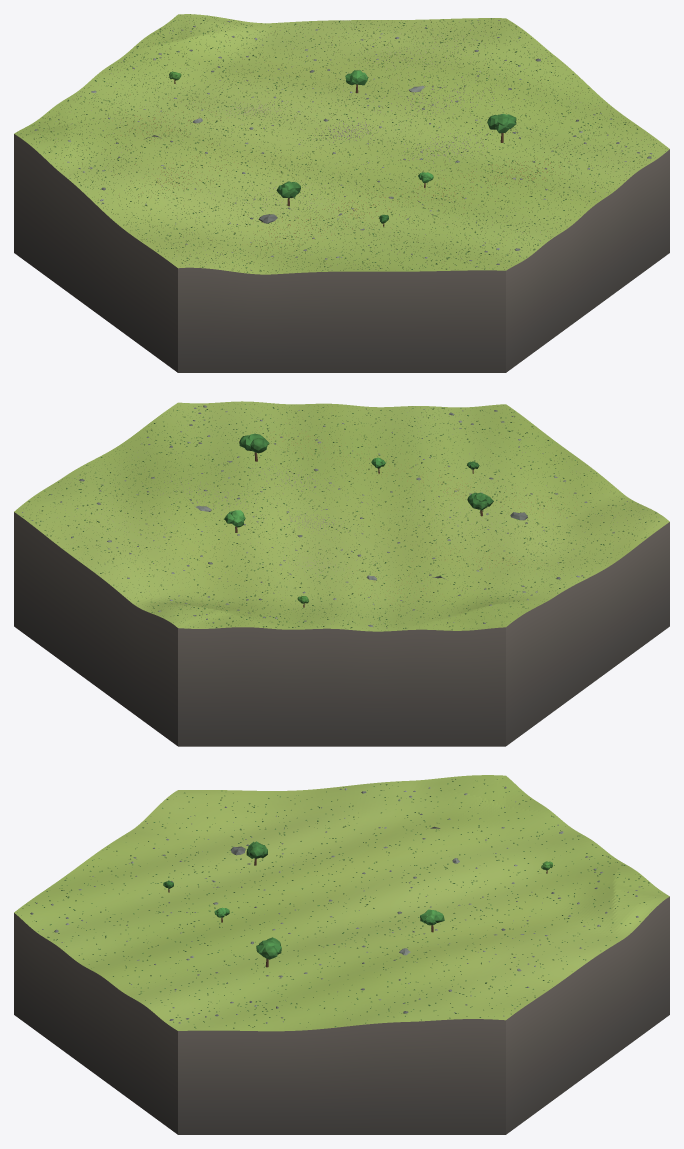
3 views of the same model, one above another, from view 1: azimuth 30°, elevation 25°; view 2: azimuth 150°, elevation 25°; view 3: azimuth 270°, elevation 25° (orthographic).
Parts seen in each view (by area): view 1: terrain, hex_side_cut, wildflowers, shrubs, broadleaf_canopy, boulders; view 2: terrain, hex_side_cut, wildflowers, shrubs, broadleaf_canopy, boulders; view 3: terrain, hex_side_cut, shrubs, broadleaf_canopy, boulders.
Boxes of the visible parts, left/top/right/bottom form: terrain: left=14, top=14, right=669, bottom=274; hex_side_cut: left=14, top=134, right=669, bottom=372; wildflowers: left=17, top=14, right=667, bottom=272; shrubs: left=20, top=16, right=656, bottom=272; broadleaf_canopy: left=169, top=70, right=516, bottom=223; boulders: left=34, top=20, right=652, bottom=270; terrain: left=14, top=401, right=669, bottom=631; hex_side_cut: left=14, top=512, right=669, bottom=746; wildflowers: left=18, top=402, right=658, bottom=628; shrubs: left=22, top=404, right=659, bottom=630; broadleaf_canopy: left=224, top=433, right=493, bottom=603; boulders: left=22, top=405, right=627, bottom=628; terrain: left=14, top=775, right=669, bottom=1031; hex_side_cut: left=14, top=896, right=669, bottom=1134; shrubs: left=17, top=778, right=658, bottom=1028; broadleaf_canopy: left=163, top=841, right=552, bottom=959; boulders: left=30, top=786, right=640, bottom=1023.
Bounding box in the file's own units: 4330 × 1131 × 5000.
